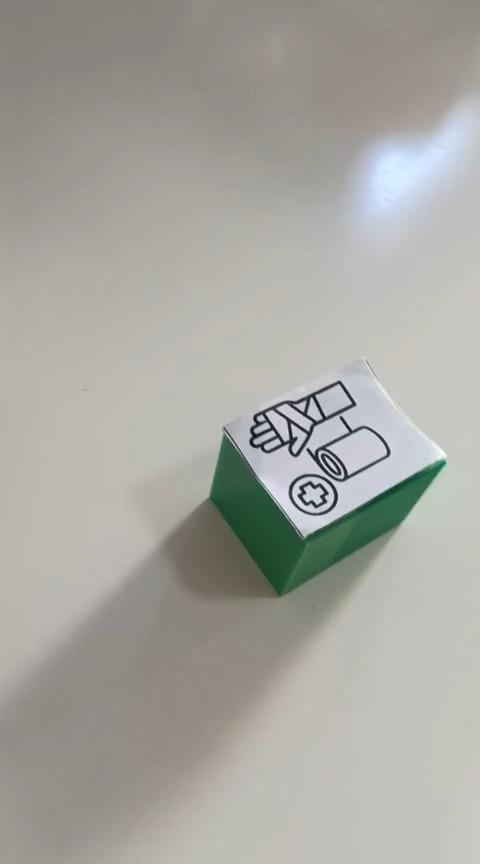Bandages: (208, 355, 447, 596)
